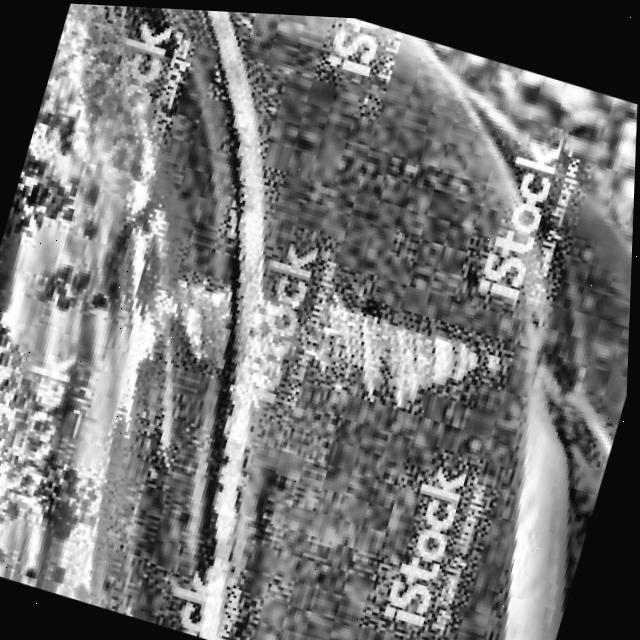bumper_scratch: (200, 246, 501, 496), (73, 188, 262, 464)
